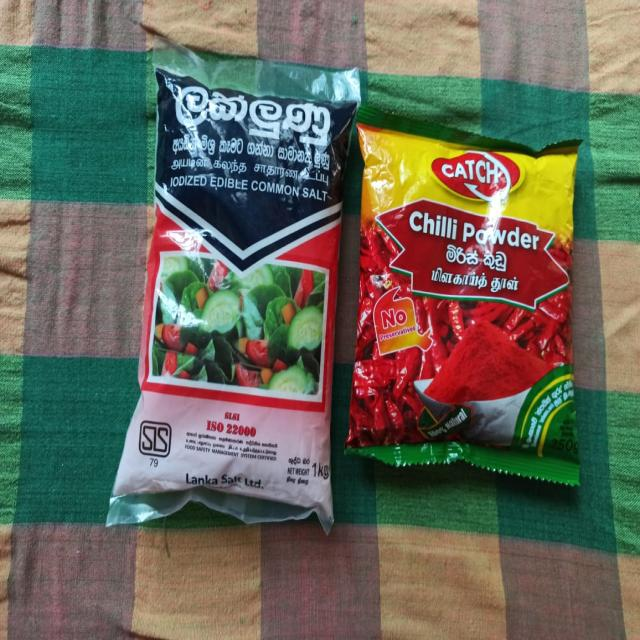Chilli Powder: (358, 100, 598, 518)
Lak Lunu: (127, 23, 354, 586)
